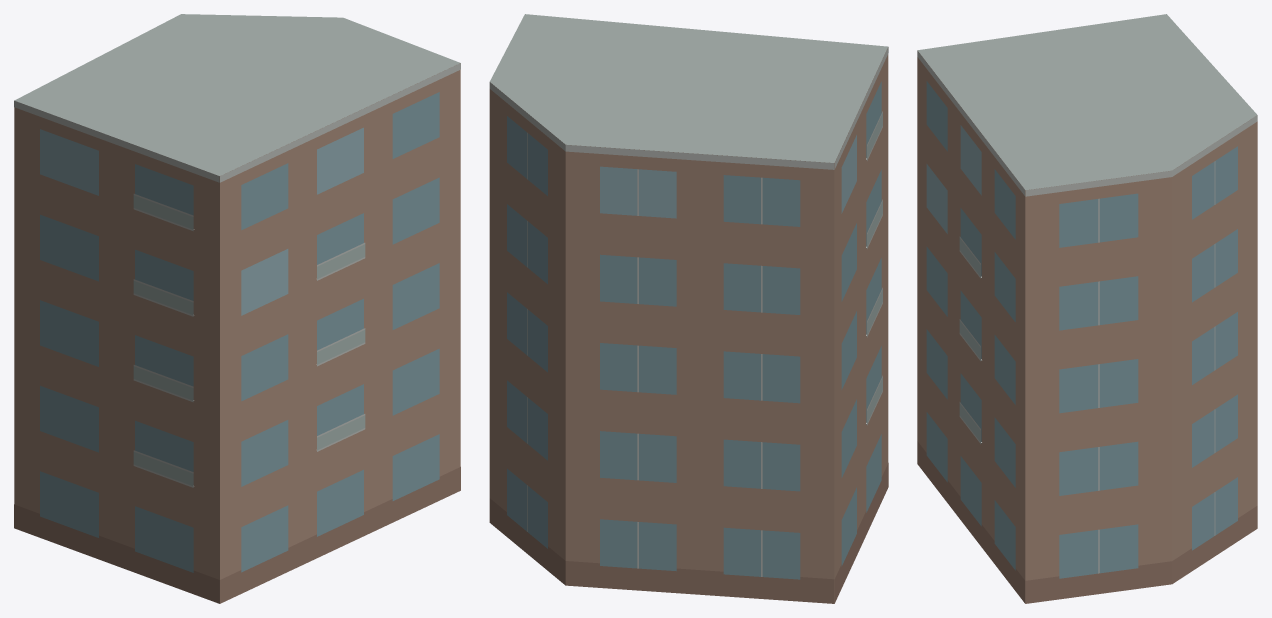
Rendered from survey-upis-33008340.glb.
3 views of the same model, side by side, from view 1: azimuth 30°, elevation 25°; view 2: azimuth 150°, elevation 25°; view 3: azimuth 270°, elevation 25° (orthographic). The views are drawn at different scales.
Visible parts, largest first — view 1: survey-upis-33008340.tmp; view 2: survey-upis-33008340.tmp; view 3: survey-upis-33008340.tmp.
Boxes of the visible parts, x1,y1,x2,y2 form: survey-upis-33008340.tmp: [14, 14, 460, 603]; survey-upis-33008340.tmp: [489, 14, 888, 603]; survey-upis-33008340.tmp: [917, 14, 1257, 603].
Bounding box in the file's own units: 14.36 × 15.7 × 11.71.
